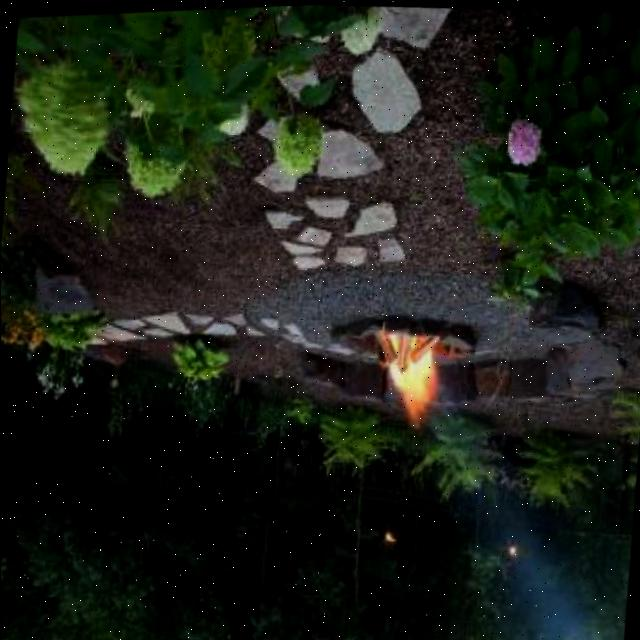fire: (376, 329, 448, 419)
